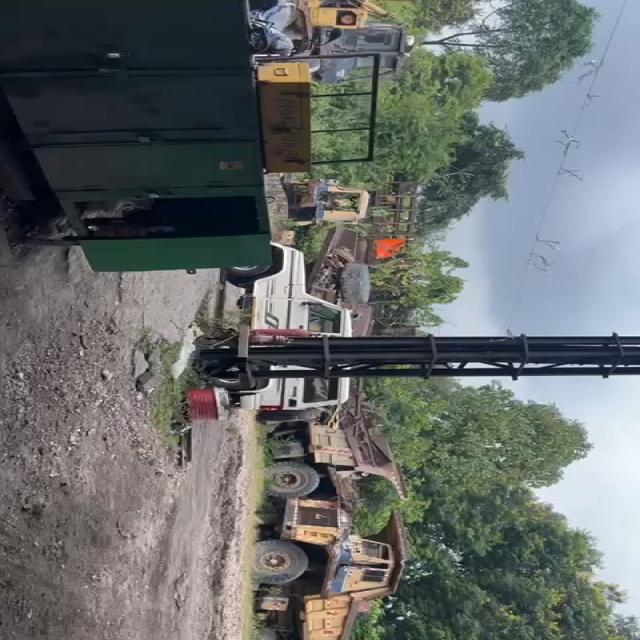light_vehicle: (262, 232, 352, 336)
